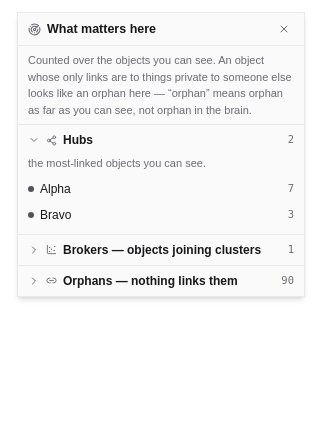
Scenario: InsightPanelView › does not pretend the listed orphans are all of them
Step 1. Click the button "Orphans — nothing links them 90" → [161, 280], box [18,266,304,296]
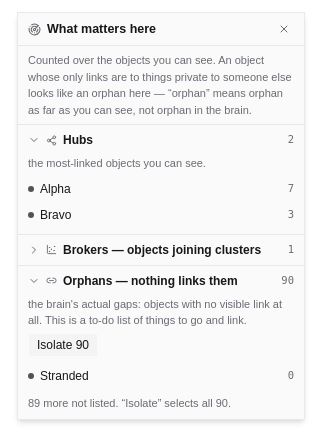
Expected: the text "89 more not listed. “Isolate” selects all 90." is shown, [28,396,231,408]
